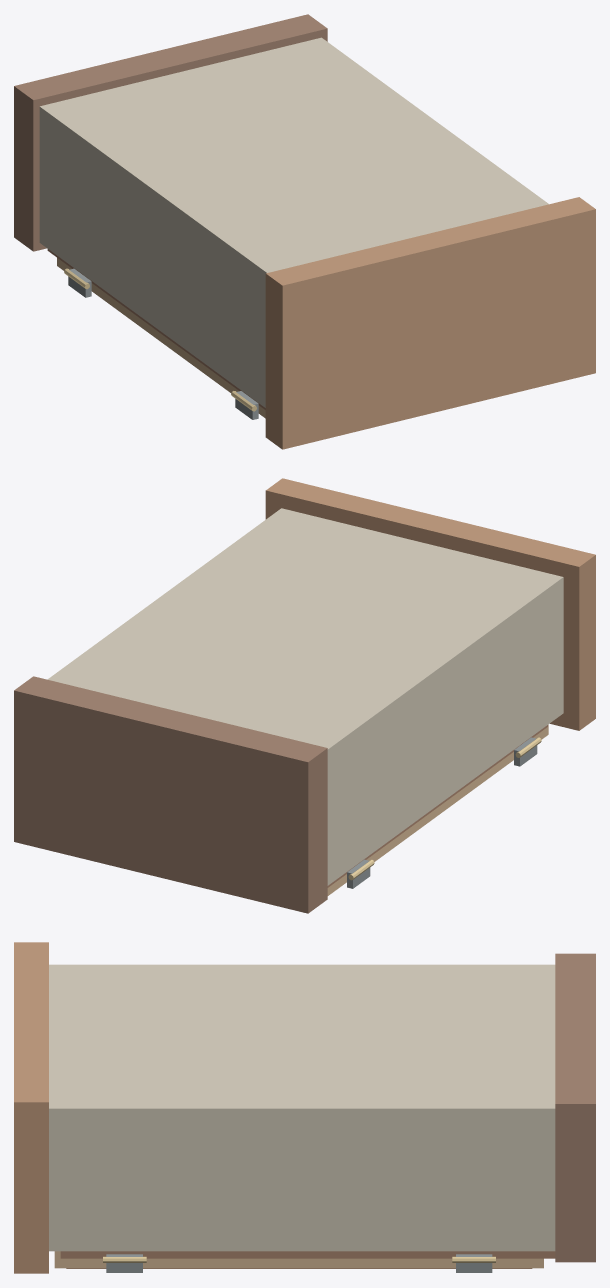
File: 03_supply_cabinet_closed.glb
The picture shows the model from 3 angles, top to bottom: view 1: azimuth 30°, elevation 25°; view 2: azimuth 150°, elevation 25°; view 3: azimuth 270°, elevation 25°; orthographic projection. The views are drawn at different scales.
Parts seen in each view (by area): view 1: cabinet_shell_0001, thick_top_cap_0006, bottom_plinth_0007, removable_door_panel_0010; view 2: cabinet_shell_0001, bottom_plinth_0007, thick_top_cap_0006, removable_door_panel_0010; view 3: cabinet_shell_0001, bottom_plinth_0007, thick_top_cap_0006, removable_door_panel_0024, cabinet_side_trim_0009, hinge_leaf_0034, hinge_leaf_0036.
Boxes of the visible parts, box(x1,y1,x2,y2) form: cabinet_shell_0001: box(39, 37, 548, 407); thick_top_cap_0006: box(265, 197, 595, 449); bottom_plinth_0007: box(14, 14, 327, 251); removable_door_panel_0010: box(57, 258, 265, 418); cabinet_shell_0001: box(47, 508, 563, 885); bottom_plinth_0007: box(14, 676, 327, 913); thick_top_cap_0006: box(265, 478, 595, 730); removable_door_panel_0010: box(327, 724, 548, 895); cabinet_shell_0001: box(49, 964, 555, 1251); bottom_plinth_0007: box(555, 953, 595, 1262); thick_top_cap_0006: box(14, 942, 48, 1273); removable_door_panel_0024: box(54, 1251, 543, 1268); cabinet_side_trim_0009: box(60, 1251, 555, 1258); hinge_leaf_0034: box(456, 1254, 492, 1272); hinge_leaf_0036: box(106, 1254, 142, 1272).
Bounding box in the file's own units: 1.3 × 0.758 × 2.
